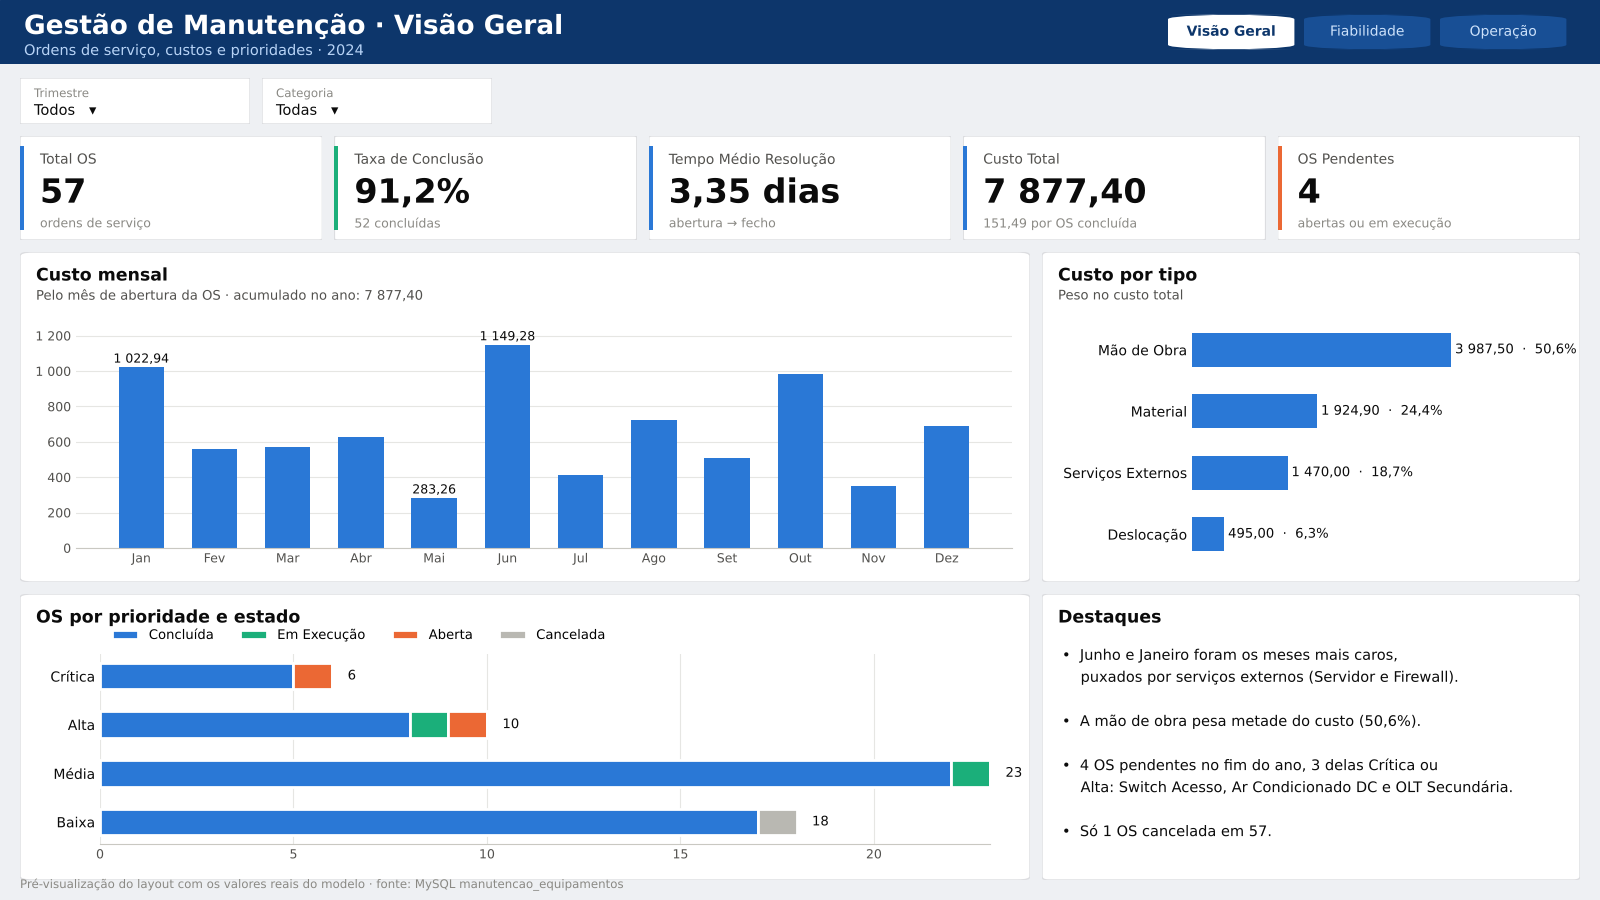

Layout of this report page (visuals, bound fields, positions):
{"tool":"powerbi","page":{"name":"Visão Geral","canvas":[1280,720],"ordinal":0},"visuals":[{"type":"cardVisual","fields":{"Data":["_Medidas.Total OS","_Medidas.Taxa de Conclusão","_Medidas.Tempo Médio Resolução (dias)","_Medidas.Custo Total","_Medidas.OS Pendentes"]},"box":[11.5,141.9,1261.8,78.9],"z":0},{"type":"slicer","fields":{"Values":["Calendario.Trimestre"]},"box":[11.5,69.8,216.7,61.5],"z":1},{"type":"slicer","fields":{"Values":["Equipamentos.Categoria"]},"box":[228.1,69.8,216.7,61.5],"z":2},{"type":"clusteredColumnChart","fields":{"Category":["Calendario.Mes"],"Y":["_Medidas.Custo Total"]},"box":[7.5,238.4,811.6,207.6],"z":3},{"type":"clusteredBarChart","title":"Custo por tipo","fields":{"Category":["Custos.Tipo_Custo"],"Y":["_Medidas.Custo Total"]},"box":[831.7,238.5,441.6,242.1],"z":4},{"type":"barChart","title":"Custo por tipo","fields":{"Category":["Ordens_Servico.Prioridade"],"Series":["Ordens_Servico.Estado_OS"],"Y":["_Medidas.Total OS"]},"box":[11.2,456.3,807.8,263.7],"z":5},{"type":"textbox","box":[0,0,1280.2,60.4],"z":7}]}

Visuals, with their boxes in screenshot pixels (x1, y1, x2, y2), scaled from the page's 1280x720 canvas onto the 1600x900 screenshot:
cardVisual - _Medidas.Total OS x _Medidas.Taxa de Conclusão: crop(14, 177, 1592, 276)
slicer - Calendario.Trimestre: crop(14, 87, 285, 164)
slicer - Equipamentos.Categoria: crop(285, 87, 556, 164)
clusteredColumnChart - Calendario.Mes x _Medidas.Custo Total: crop(9, 298, 1024, 558)
"Custo por tipo" clusteredBarChart: crop(1040, 298, 1592, 601)
"Custo por tipo" barChart: crop(14, 570, 1024, 899)
textbox: crop(0, 0, 1599, 76)
